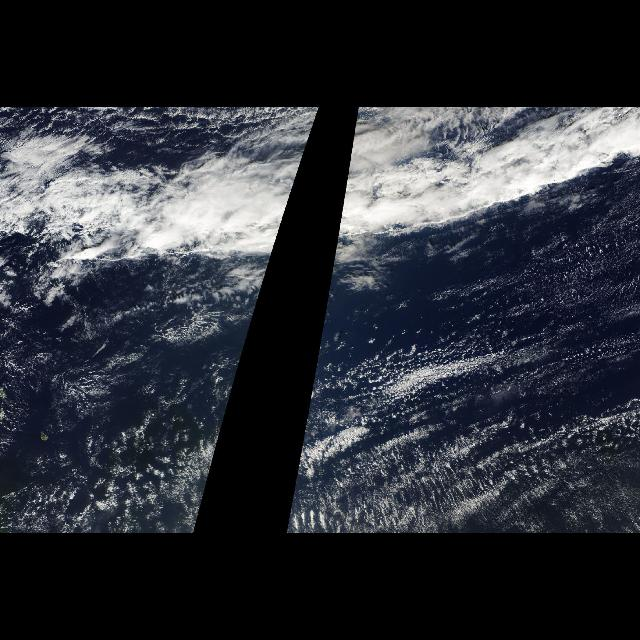Gravel: (2, 291, 258, 471)
Sugar: (286, 254, 630, 534)
